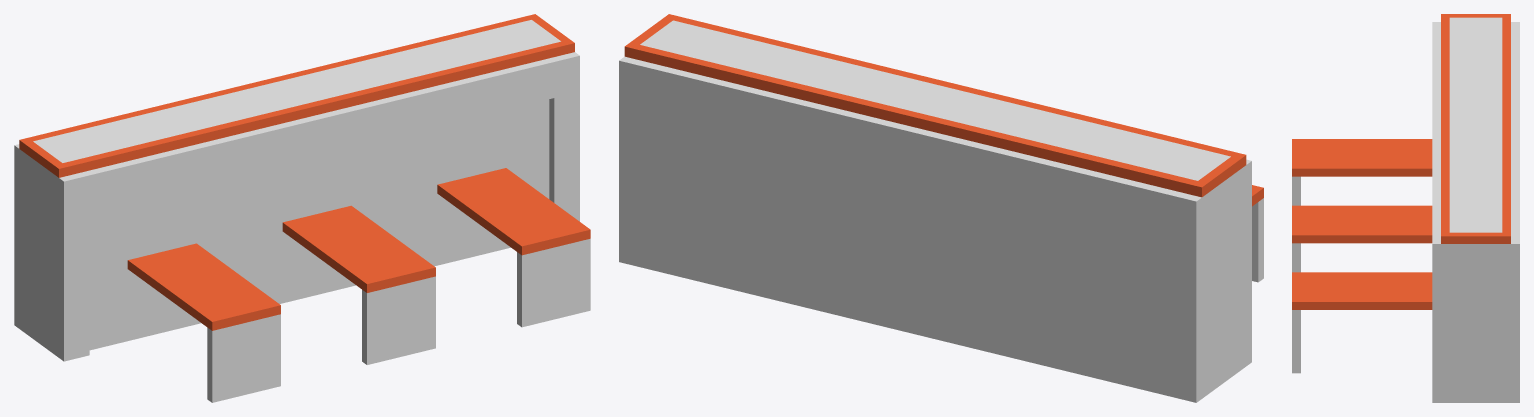
The model's file is Commisary Benches Half Wall.obj.
The picture shows the model from 3 angles, left to right: view 1: azimuth 30°, elevation 25°; view 2: azimuth 150°, elevation 25°; view 3: azimuth 270°, elevation 25°; orthographic projection. The views are drawn at different scales.
Bounding box in the file's own units: 60 × 21 × 26.
1 material, 1 textured.
